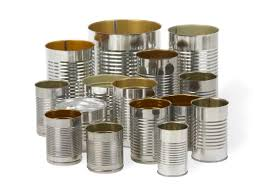can: (31, 16, 238, 179)
